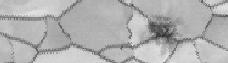good_void: (146, 13, 183, 55)
